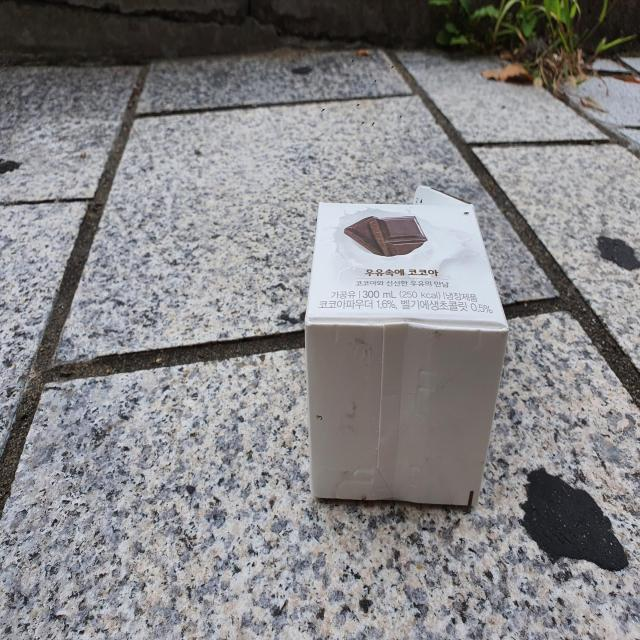paperpack: (305, 186, 509, 507)
